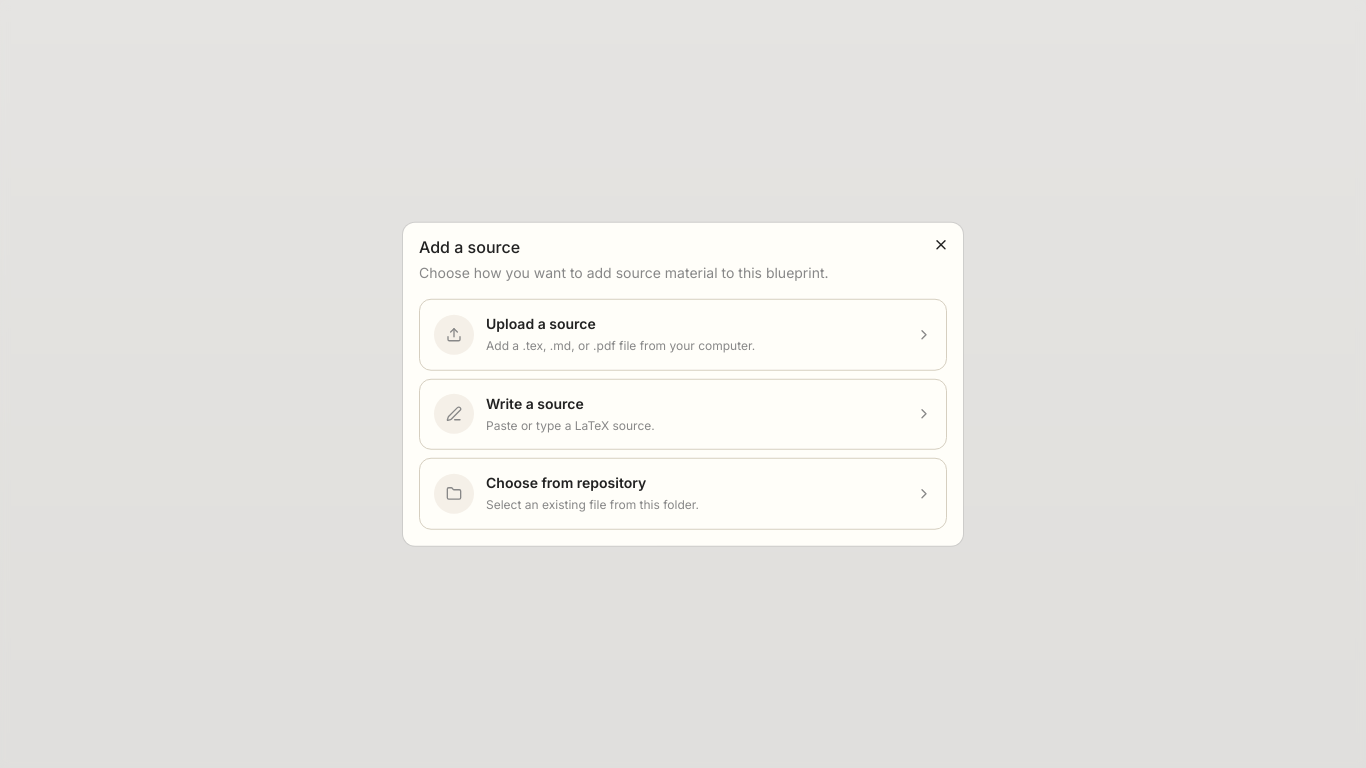
AddSourceDialog › explains when the workspace clone is not ready
What coordinates should you click on to do the following:
click the button "Choose from repository"
I would click on:
 (454, 494)
Its box is [419,458,947,529].
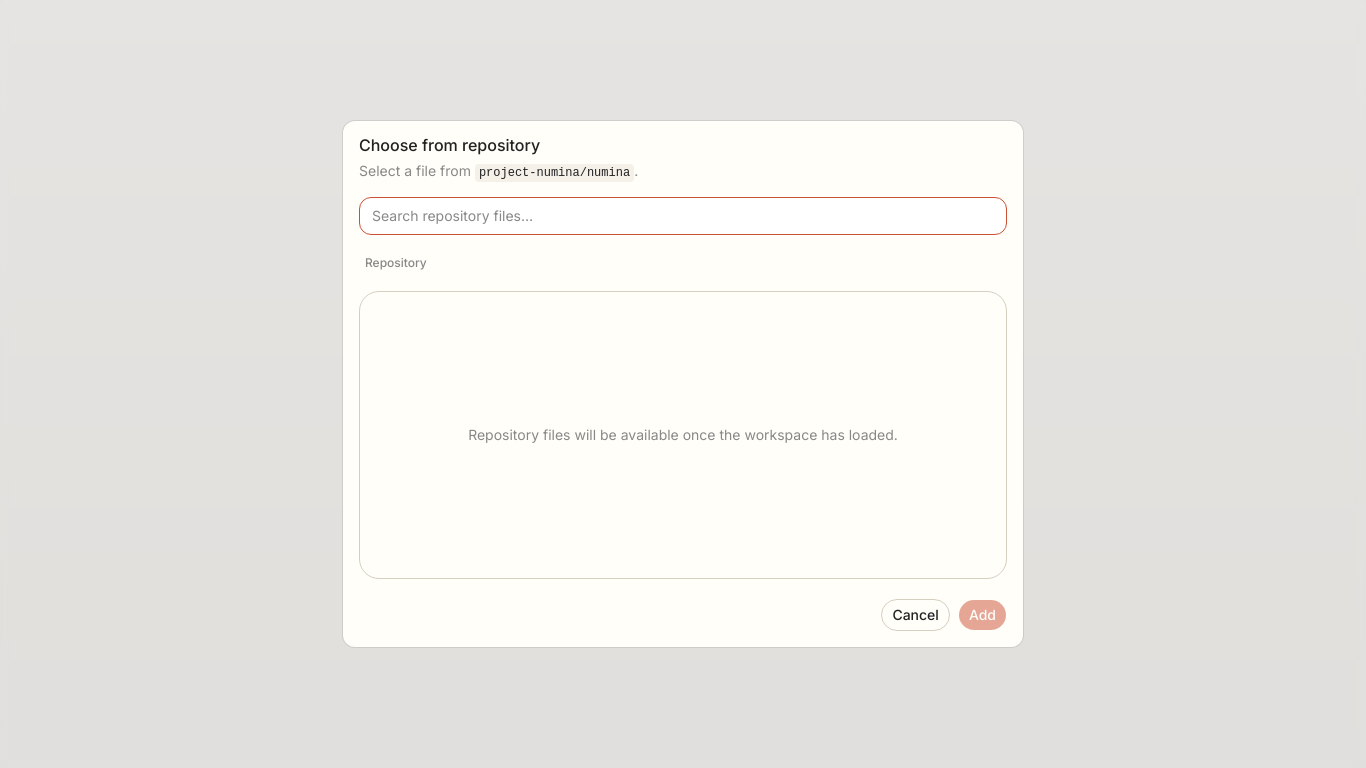
Result: the text "Repository files will be available once the workspace has loaded." is shown at [452,425,914,445]
